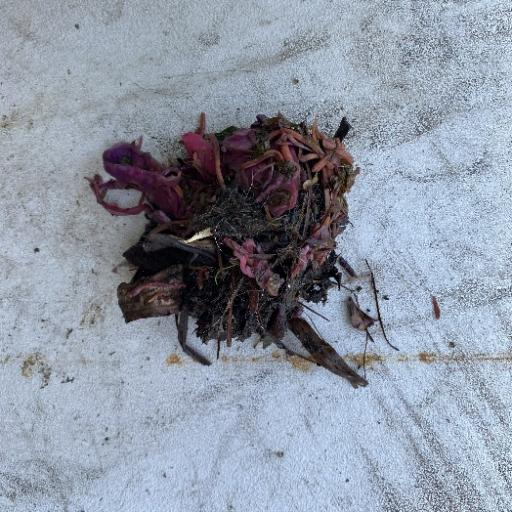Waste: (84, 109, 394, 389)
